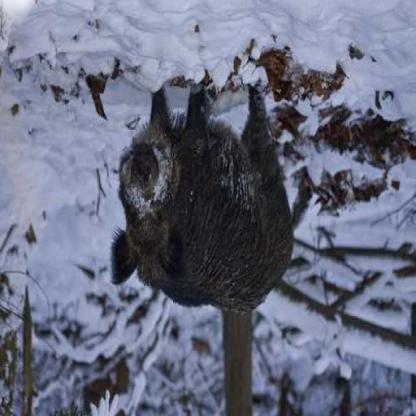boar: (88, 45, 346, 343)
